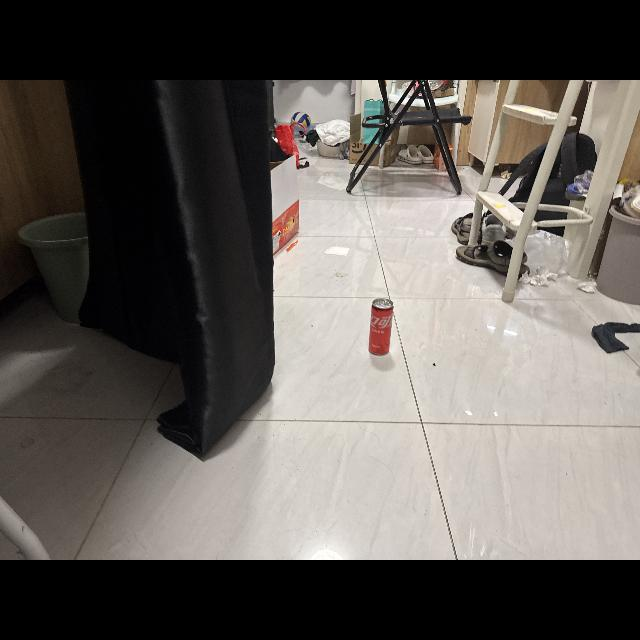Cola: (362, 294, 401, 361)
